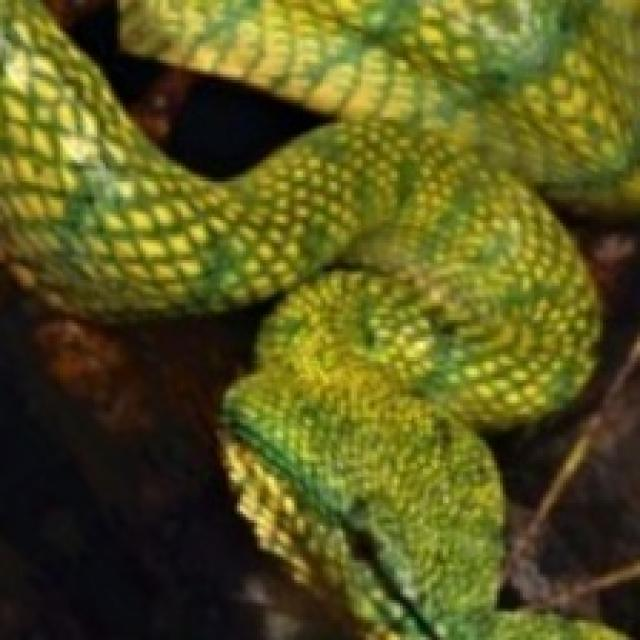north ph temple pitviper: (0, 0, 623, 637)
